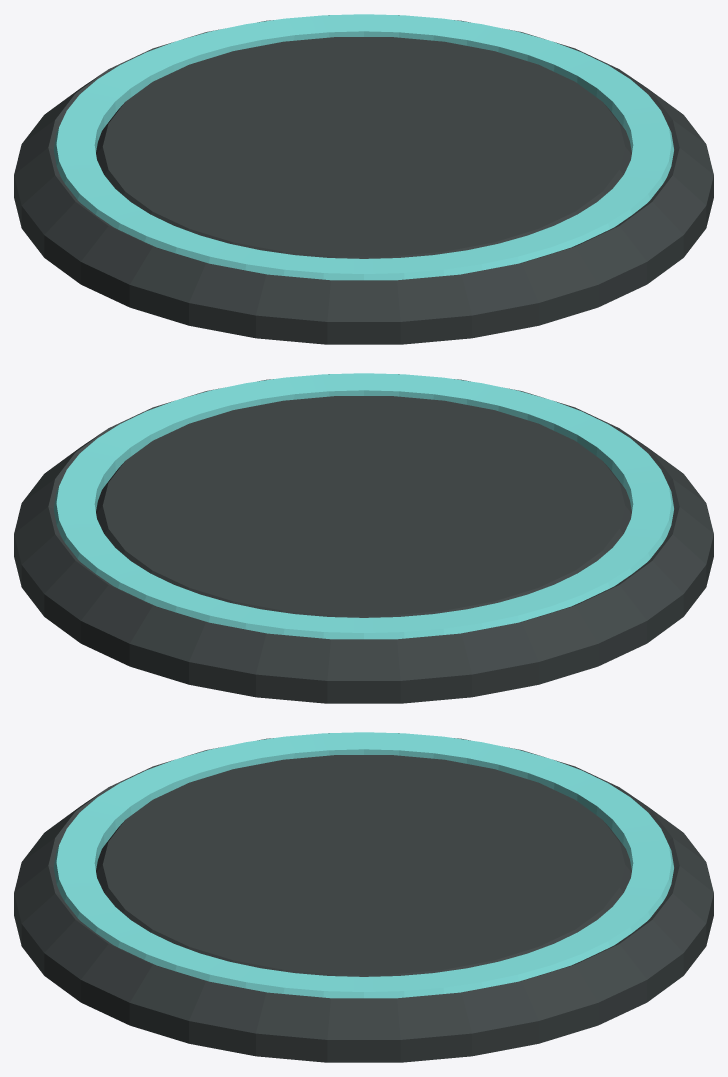
Rendered from platform_v2.fbx.
3 renders of one model, top to bottom at view 1: azimuth 30°, elevation 25°; view 2: azimuth 150°, elevation 25°; view 3: azimuth 270°, elevation 25°, orthographic.
Parts seen in each view (by area): view 1: Torus.002; view 2: Torus.002; view 3: Torus.002.
Boxes of the visible parts, box(x1,y1,x2,y2) form: Torus.002: box(14, 14, 713, 344); Torus.002: box(14, 373, 713, 703); Torus.002: box(14, 732, 713, 1062).
Size of the model in its own units: 119 by 10.12 by 120.
